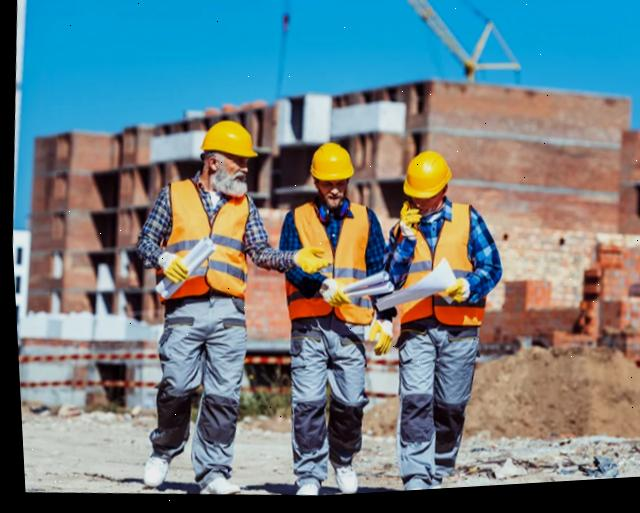helmet: (195, 117, 259, 164), (396, 150, 449, 205), (302, 138, 359, 188)
vest: (153, 174, 250, 314), (286, 203, 377, 336), (388, 219, 483, 333)
